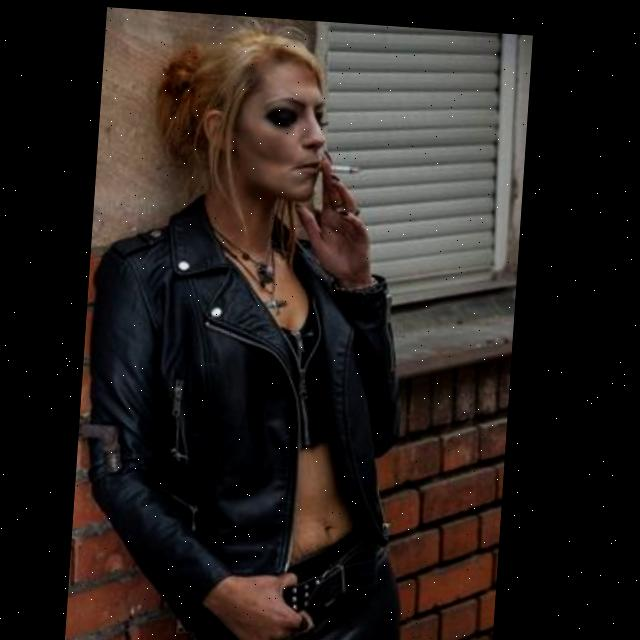cigarette: (328, 160, 359, 169)
